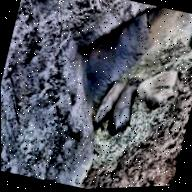boar: (105, 72, 152, 150), (89, 72, 124, 133)
